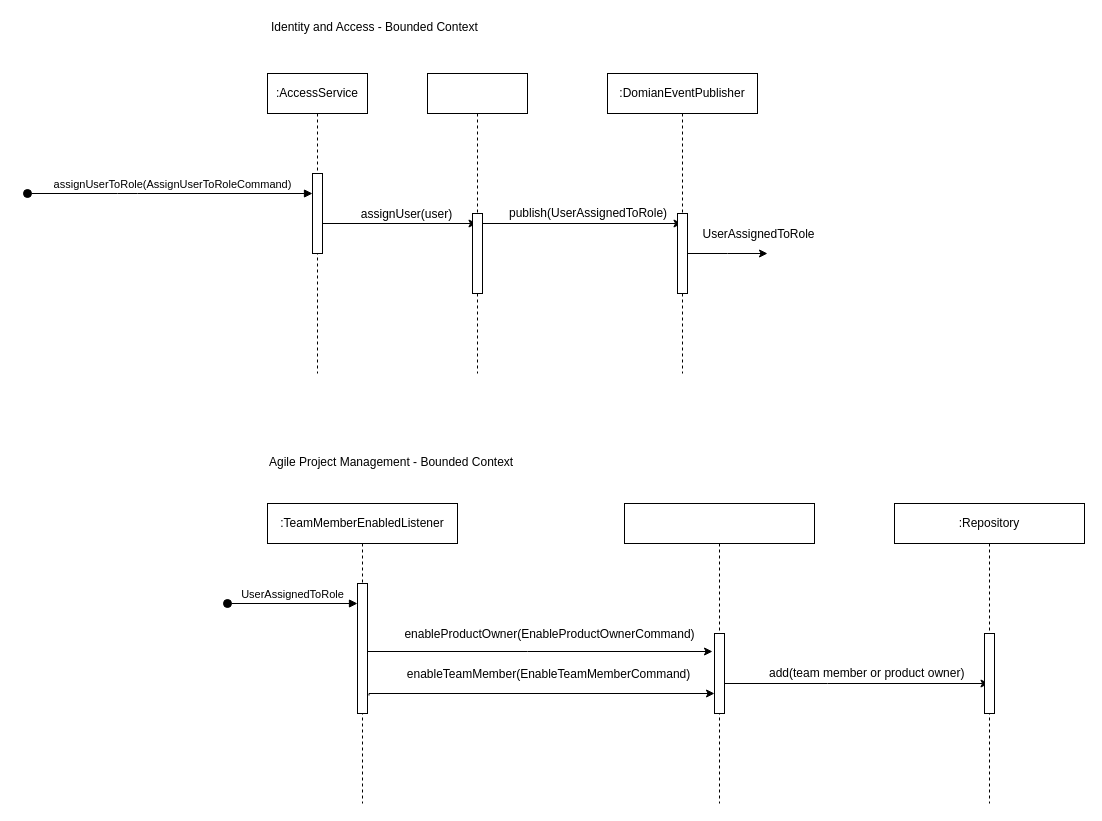
This 1102x821 diagram has some shape labels left out. Each missing label, with the centre of its shape:
:Role: [477,223]
:TeamService: [719,653]
